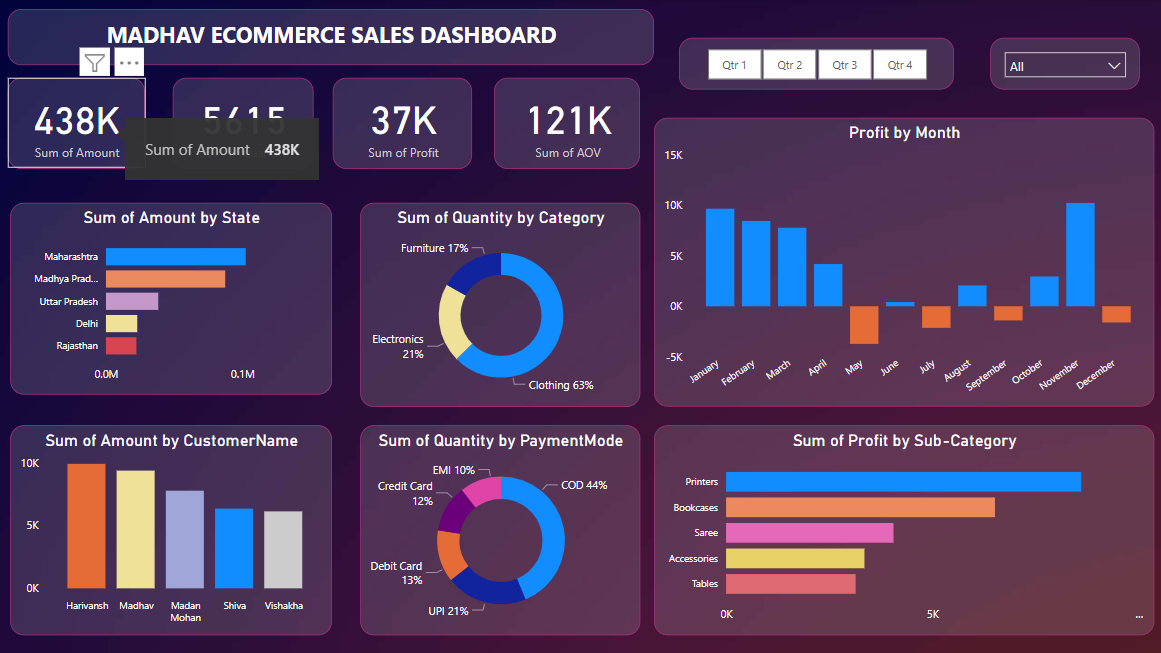

This screenshot's page, from the dashboard's own definition file:
{"tool":"powerbi","page":{"name":"Page 1","canvas":[1280,720],"ordinal":0},"visuals":[{"type":"textbox","box":[10,11.4,708.6,61.4],"z":0},{"type":"columnChart","title":"Profit by Month","fields":{"Y":["Details.Profit"],"Category":["Orders.Order Date.Variation.Date Hierarchy.Month"]},"box":[718.6,130,548.6,317.1],"z":1000},{"type":"barChart","fields":{"Category":["Details.Sub-Category"],"Y":["Details.Profit"]},"box":[718.6,467.1,548.6,230],"z":2000},{"type":"donutChart","fields":{"Category":["Details.Category"],"Y":["Details.Quantity"]},"box":[395.7,222.9,307.1,224.3],"z":3000},{"type":"donutChart","fields":{"Y":["Details.Quantity"],"Category":["Details.PaymentMode"]},"box":[395.7,467.1,307.1,230],"z":4000},{"type":"card","fields":{"Values":["Details.Amount"]},"box":[10,85.7,150,100],"z":5000},{"type":"card","fields":{"Values":["Details.Quantity"]},"box":[190,85.7,154.3,100],"z":6000},{"type":"card","fields":{"Values":["Details.Profit"]},"box":[365.7,85.7,152.9,100],"z":7000},{"type":"card","fields":{"Values":["Details.AOV"]},"box":[542.9,85.7,160,100],"z":8000},{"type":"columnChart","fields":{"Category":["Orders.CustomerName"],"Y":["Details.Amount"]},"box":[12.9,467.1,352.9,230],"z":9000},{"type":"clusteredBarChart","fields":{"Category":["Orders.State"],"Y":["Details.Amount"]},"box":[12.9,222.9,352.9,210],"z":10000},{"type":"slicer","fields":{"Values":["Orders.Order Date.Variation.Date Hierarchy.Quarter"]},"box":[745.7,42.9,301.4,57.1],"z":11000},{"type":"slicer","fields":{"Values":["Orders.State"]},"box":[1087.1,42.9,164.3,57.1],"z":12000}]}

Visuals, with their boxes in screenshot pixels (x1, y1, x2, y2), scaled from the page's 1280x720 canvas onto the 1161x653 screenshot:
textbox: box=[9, 10, 652, 66]
"Profit by Month" columnChart: box=[652, 118, 1149, 405]
barChart - Details.Sub-Category x Details.Profit: box=[652, 424, 1149, 632]
donutChart - Details.Category x Details.Quantity: box=[359, 202, 637, 406]
donutChart - Details.Quantity x Details.PaymentMode: box=[359, 424, 637, 632]
card - Details.Amount: box=[9, 78, 145, 168]
card - Details.Quantity: box=[172, 78, 312, 168]
card - Details.Profit: box=[332, 78, 470, 168]
card - Details.AOV: box=[492, 78, 638, 168]
columnChart - Orders.CustomerName x Details.Amount: box=[12, 424, 332, 632]
clusteredBarChart - Orders.State x Details.Amount: box=[12, 202, 332, 393]
slicer - Orders.Order Date.Variation.Date Hierarchy.Quarter: box=[676, 39, 950, 91]
slicer - Orders.State: box=[986, 39, 1135, 91]
